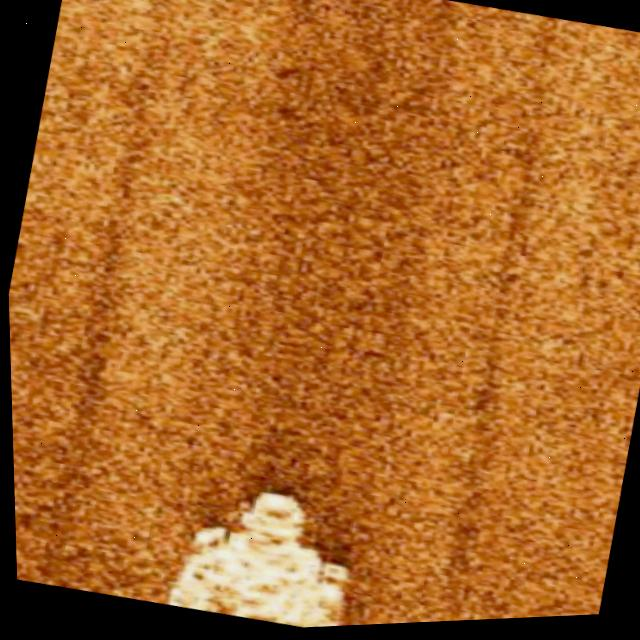bedrock group: (155, 471, 368, 635)
